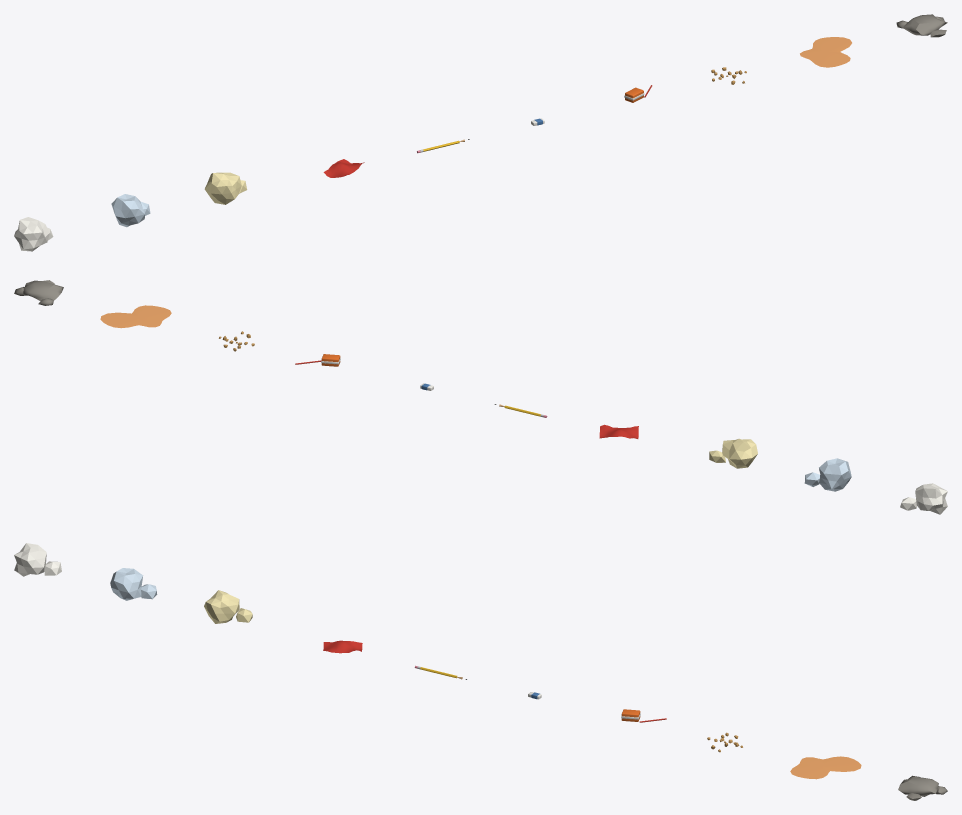
File: litter.glb
The picture shows the model from 3 angles, top to bottom: view 1: azimuth 30°, elevation 25°; view 2: azimuth 150°, elevation 25°; view 3: azimuth 330°, elevation 25°; orthographic projection.
Parts seen in each view (by area): view 1: litter_spill_Liquid_Orange, litter_paper_c_Paper_Yellow, litter_paper_a_Paper_White, litter_paper_b_Paper_Blue, litter_dust_Dust; view 2: litter_spill_Liquid_Orange, litter_paper_b_Paper_Blue, litter_paper_c_Paper_Yellow, litter_paper_a_Paper_White, litter_dust_Dust; view 3: litter_spill_Liquid_Orange, litter_paper_a_Paper_White, litter_paper_b_Paper_Blue, litter_paper_c_Paper_Yellow, litter_dust_Dust.
Boxes of the visible parts, x1=… form: litter_spill_Liquid_Orange: x1=800, y1=37, x2=851, y2=67; litter_paper_c_Paper_Yellow: x1=204, y1=172, x2=247, y2=204; litter_paper_a_Paper_White: x1=14, y1=217, x2=53, y2=251; litter_paper_b_Paper_Blue: x1=111, y1=194, x2=150, y2=227; litter_dust_Dust: x1=896, y1=14, x2=947, y2=37; litter_spill_Liquid_Orange: x1=100, y1=305, x2=171, y2=328; litter_paper_b_Paper_Blue: x1=804, y1=458, x2=851, y2=491; litter_paper_c_Paper_Yellow: x1=709, y1=438, x2=757, y2=468; litter_paper_a_Paper_White: x1=900, y1=483, x2=947, y2=514; litter_dust_Dust: x1=14, y1=280, x2=63, y2=305; litter_spill_Liquid_Orange: x1=790, y1=756, x2=861, y2=779; litter_paper_a_Paper_White: x1=14, y1=543, x2=61, y2=576; litter_paper_b_Paper_Blue: x1=110, y1=568, x2=157, y2=600; litter_paper_c_Paper_Yellow: x1=204, y1=590, x2=252, y2=623; litter_dust_Dust: x1=898, y1=775, x2=947, y2=800.
Bounding box in the file's own units: 3.85 × 0.1207 × 0.2352.
